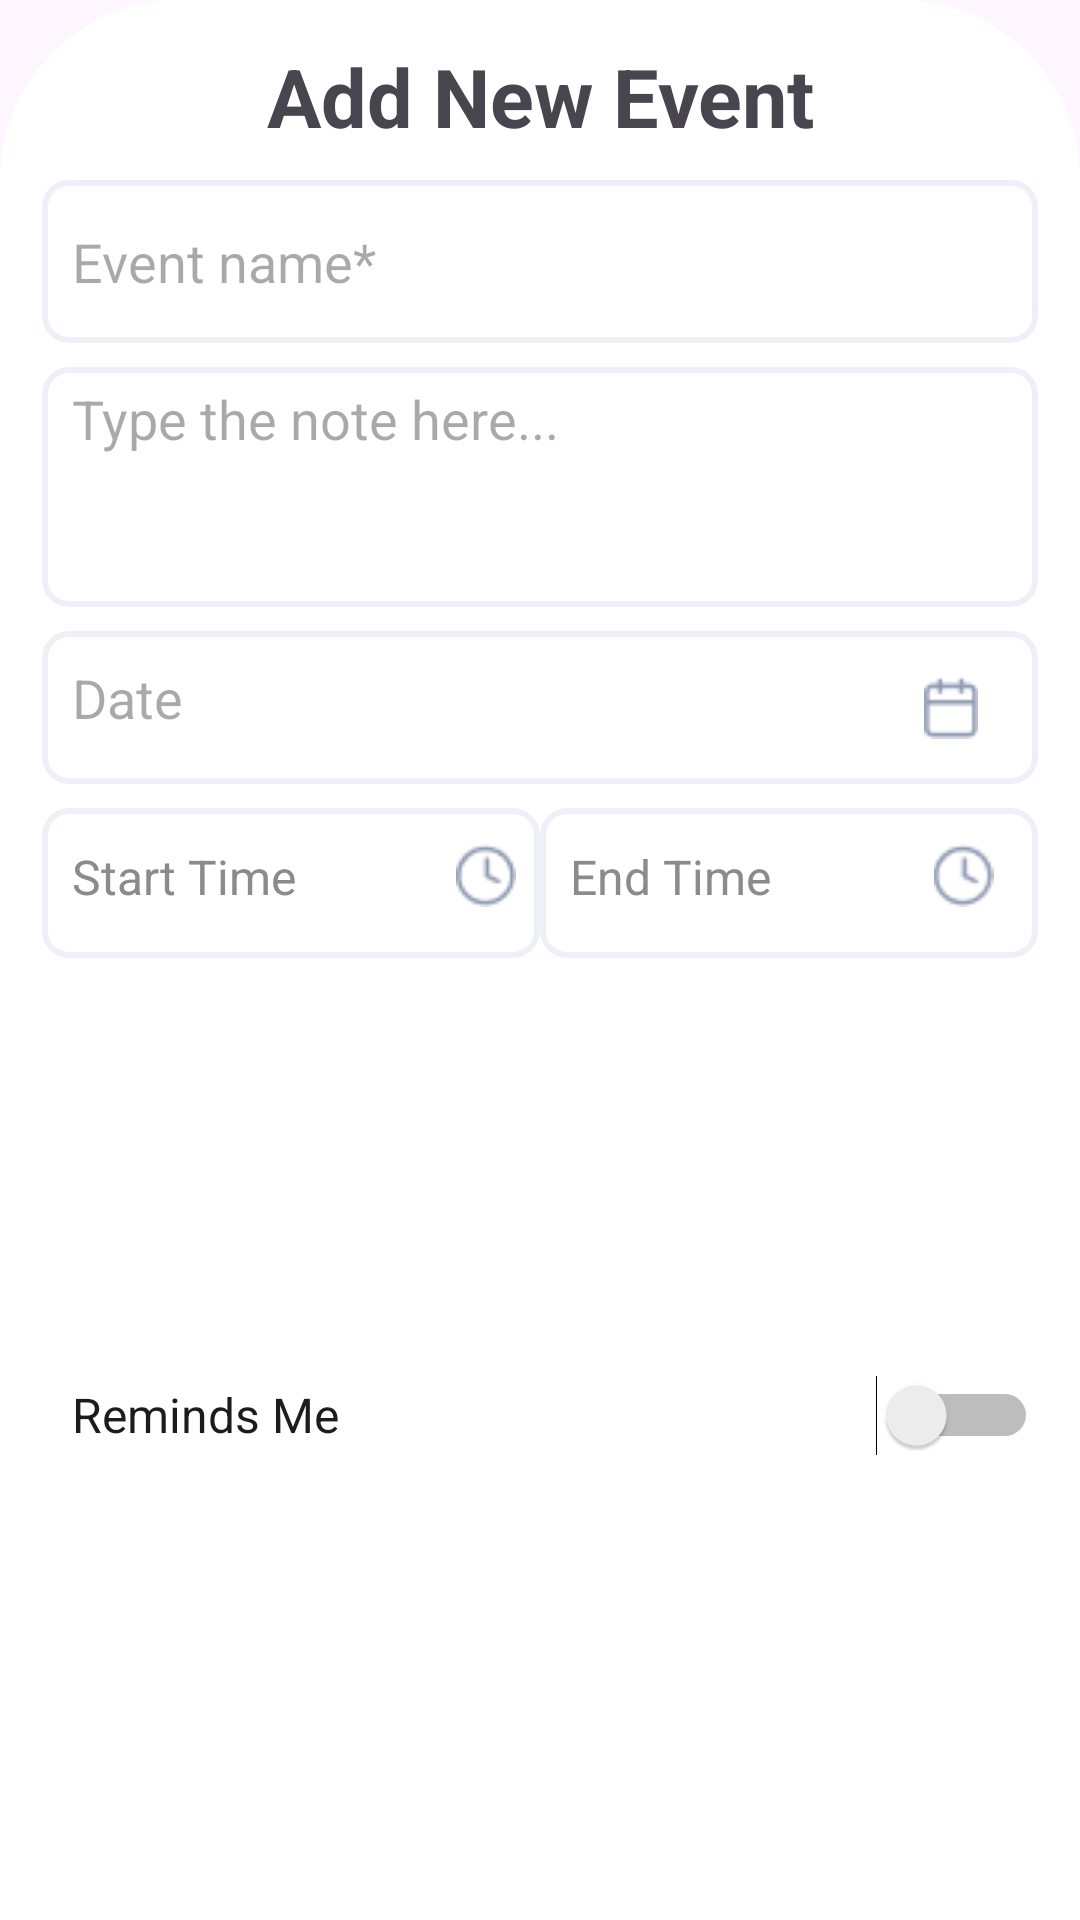

Point at icon controls on the screen. Image size 1080 x 1920, points as (x,y).
calendar: (951,708)
